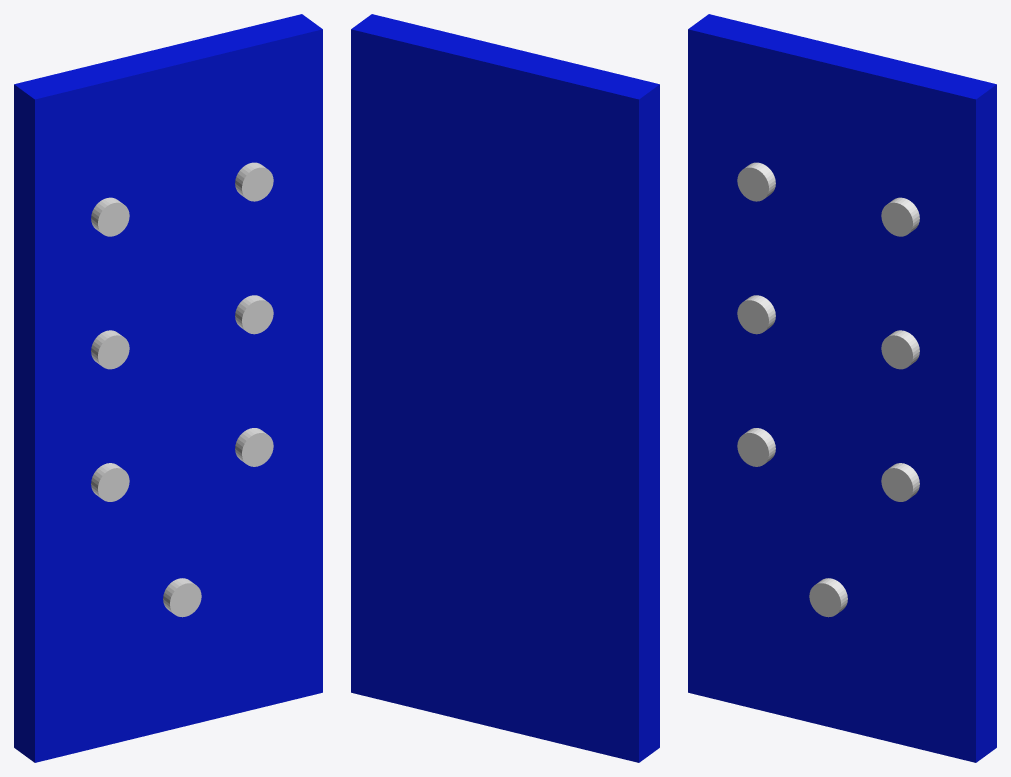
File: buttons_prop.gltf
3 renders of one model, left to right at view 1: azimuth 30°, elevation 25°; view 2: azimuth 150°, elevation 25°; view 3: azimuth 330°, elevation 25°, orthographic.
Visible parts, largest first — view 1: Cube, Cylinder.004, Cylinder, Cylinder.001, Cylinder.005, Cylinder.003, Cylinder.002, Cylinder.006; view 2: Cube; view 3: Cube, Cylinder, Cylinder.001, Cylinder.004, Cylinder.005, Cylinder.003, Cylinder.006, Cylinder.002.
Part boxes in pixels (x1,y1,x2,y2): Cube: (14, 14, 322, 762); Cylinder.004: (235, 162, 273, 201); Cylinder: (91, 197, 129, 236); Cylinder.001: (91, 330, 129, 369); Cylinder.005: (235, 295, 273, 334); Cylinder.003: (163, 578, 201, 617); Cylinder.002: (91, 463, 129, 501); Cylinder.006: (235, 428, 273, 466); Cube: (351, 14, 659, 762); Cube: (688, 14, 996, 762); Cylinder: (737, 162, 775, 201); Cylinder.001: (737, 295, 775, 334); Cylinder.004: (881, 197, 919, 236); Cylinder.005: (881, 330, 919, 369); Cylinder.003: (809, 578, 847, 617); Cylinder.006: (881, 463, 919, 501); Cylinder.002: (737, 428, 775, 466).
Bounding box in the file's own units: 0.1817 × 0.4 × 0.0303.
